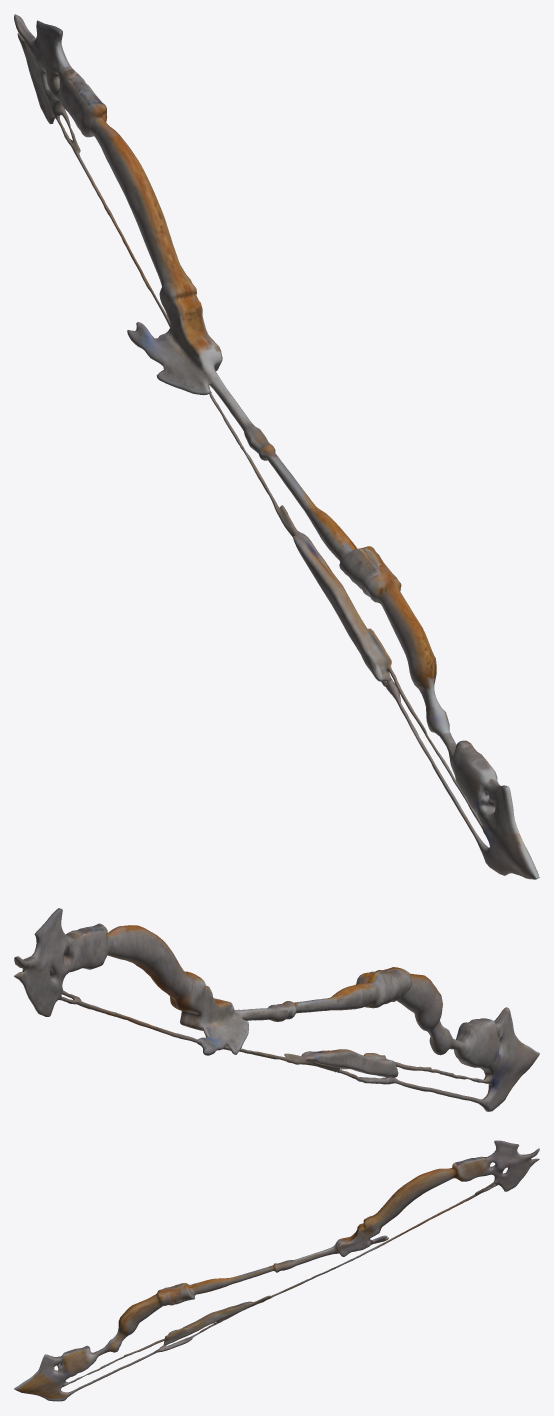
File: Willow Bow.glb
3 renders of one model, top to bottom at view 1: azimuth 30°, elevation 25°; view 2: azimuth 150°, elevation 25°; view 3: azimuth 270°, elevation 25°, orthographic. The views are drawn at different scales.
Visible parts, largest first — view 1: file1; view 2: file1; view 3: file1.
Part boxes in pixels (left/top/right/bottom): file1: left=14, top=14, right=539, bottom=879; file1: left=14, top=908, right=539, bottom=1111; file1: left=14, top=1140, right=539, bottom=1401.
Bounding box in the file's own units: 0.1111 × 1.09 × 2.
Materials: 1 (1 with a texture image).
